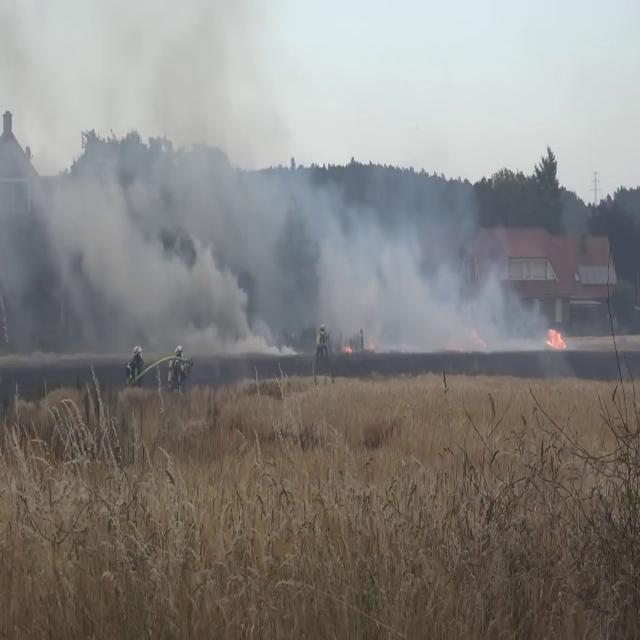Fire: (543, 316, 569, 354)
Smoke: (0, 22, 387, 375)
